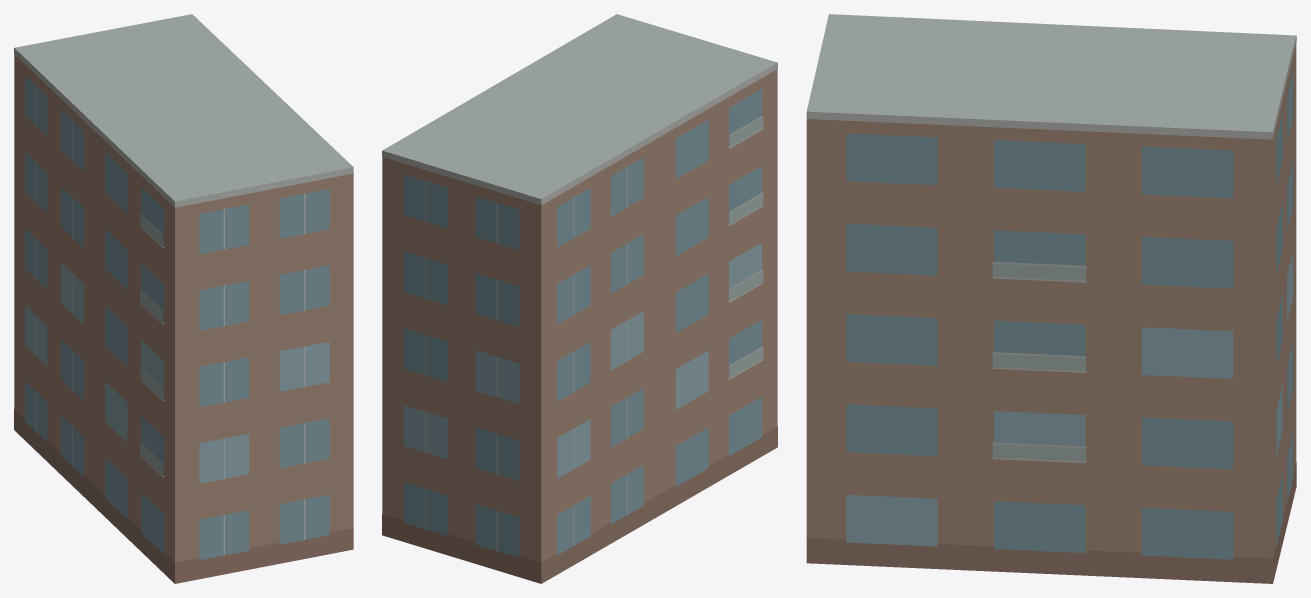
File: survey-upis-32573233.glb
3 renders of one model, left to right at view 1: azimuth 30°, elevation 25°; view 2: azimuth 150°, elevation 25°; view 3: azimuth 270°, elevation 25°, orthographic. The views are drawn at different scales.
Visible parts, largest first — view 1: survey-upis-32573233.tmp; view 2: survey-upis-32573233.tmp; view 3: survey-upis-32573233.tmp.
Part boxes in pixels (x1,y1,x2,y2): survey-upis-32573233.tmp: [14, 14, 353, 583]; survey-upis-32573233.tmp: [382, 14, 777, 583]; survey-upis-32573233.tmp: [806, 14, 1296, 583].
Size of the model in its own units: 8.47 by 15.05 by 14.8.
